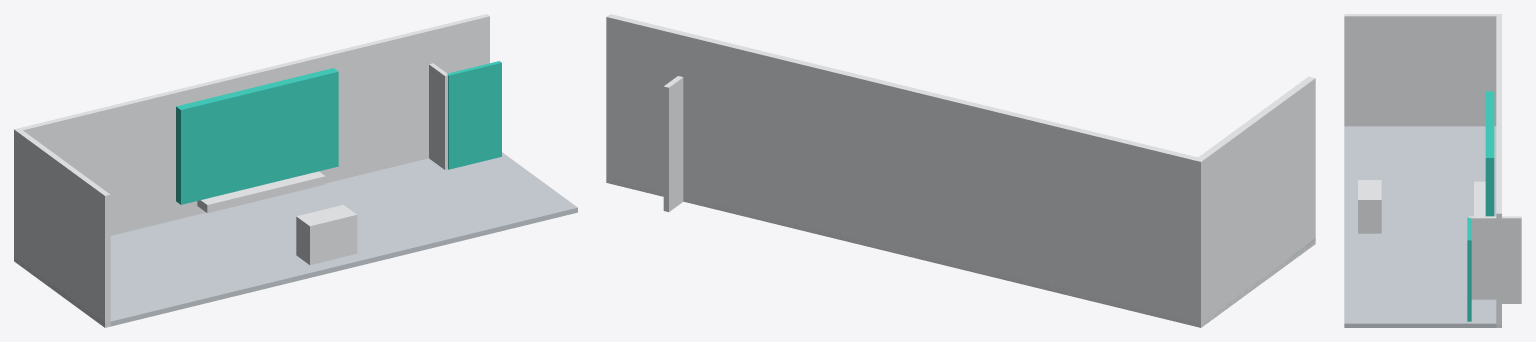
3 renders of one model, left to right at view 1: azimuth 30°, elevation 25°; view 2: azimuth 150°, elevation 25°; view 3: azimuth 270°, elevation 25°, orthographic. The views are drawn at different scales.
Parts seen in each view (by area): view 1: Exhibition Booth Concept; view 2: Exhibition Booth Concept; view 3: Exhibition Booth Concept.
Boxes of the visible parts, bbox=[...] form: Exhibition Booth Concept: bbox=[14, 14, 577, 327]; Exhibition Booth Concept: bbox=[606, 14, 1315, 327]; Exhibition Booth Concept: bbox=[1344, 14, 1521, 327].
Size of the model in its own units: 12 by 3.2 by 4.51.
